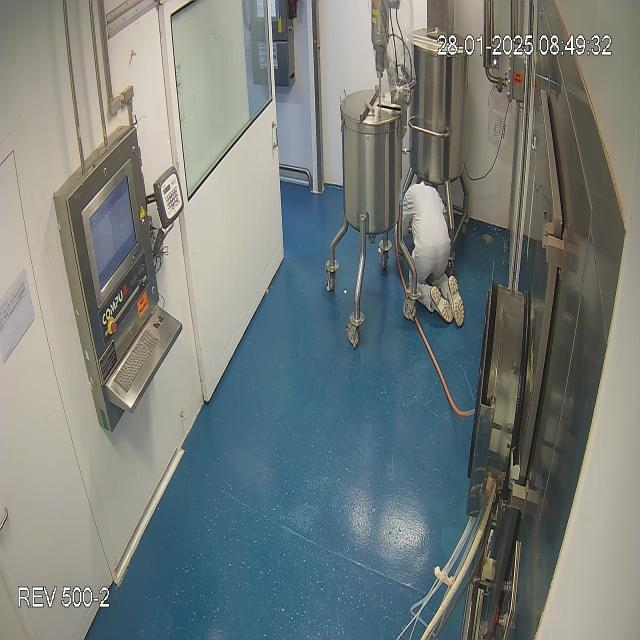bota: (426, 271, 472, 338)
pessoa: (398, 172, 468, 344)
